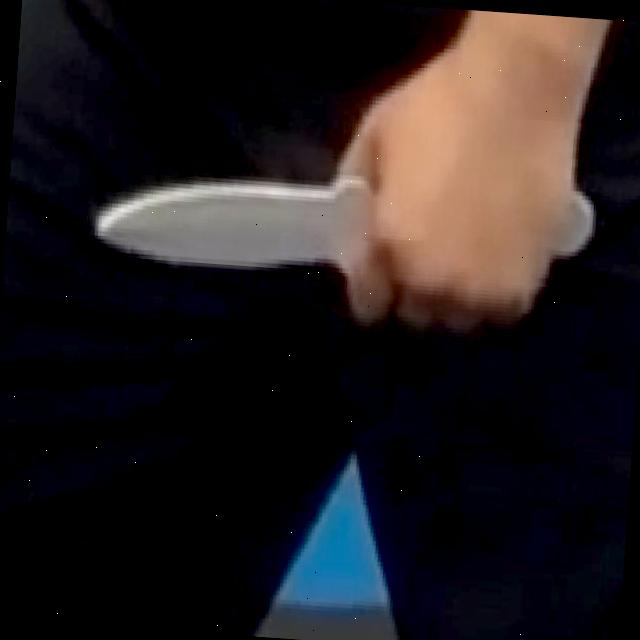suspicion: (83, 0, 615, 347), (91, 152, 366, 282), (558, 188, 600, 262)
